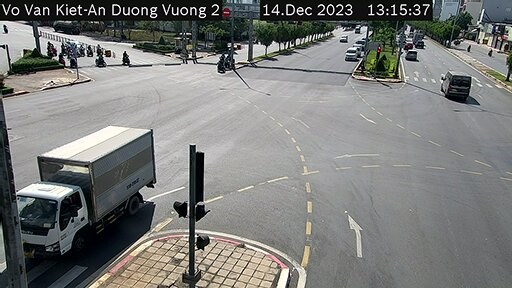car: (443, 70, 468, 98), (346, 46, 358, 60), (405, 51, 418, 63), (340, 35, 348, 39)
truck: (17, 134, 171, 250)
